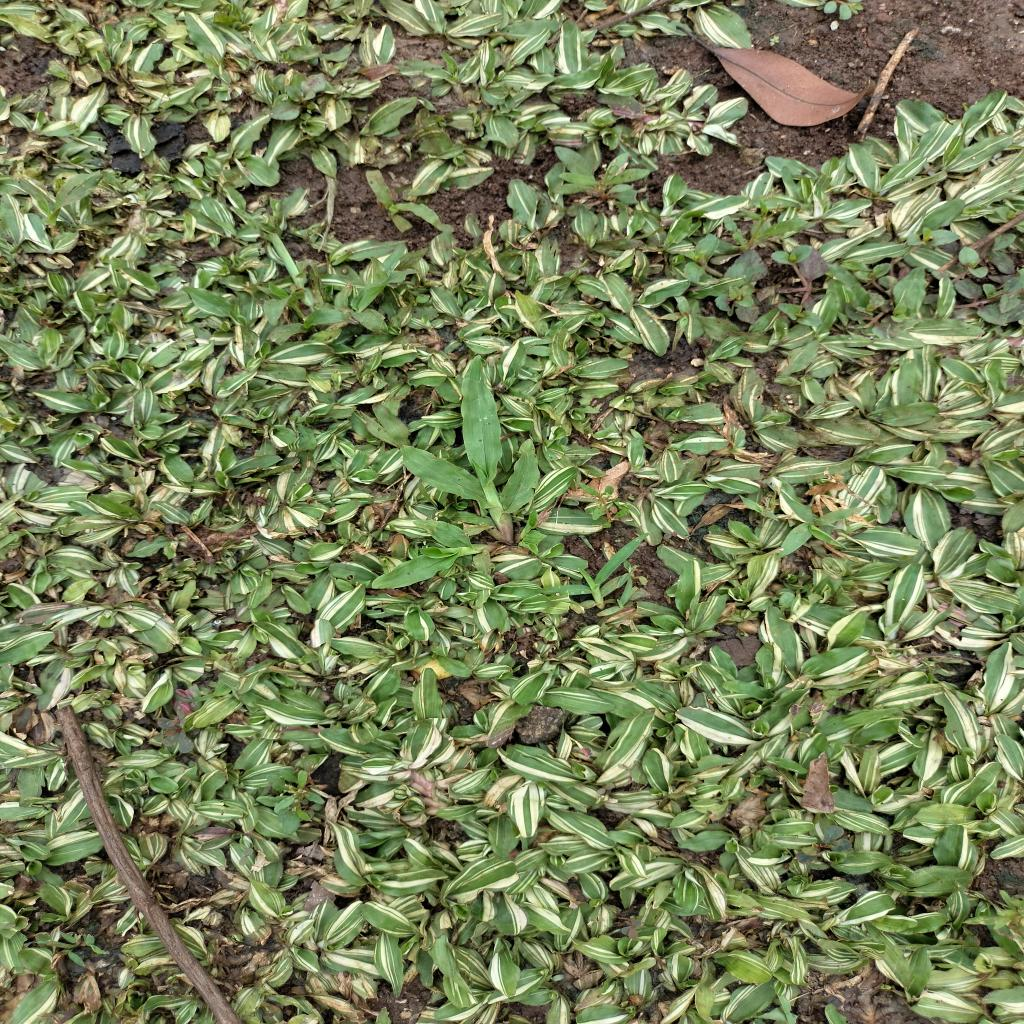bayi: (768, 33, 783, 46), (614, 538, 622, 544)
gingseng jawa: (553, 144, 650, 207), (722, 182, 809, 252), (254, 767, 325, 837), (575, 480, 635, 526)
rambat atas: (539, 532, 653, 610), (772, 504, 870, 562), (40, 929, 110, 968), (658, 295, 690, 354)
rambat bawah: (400, 352, 540, 545), (370, 518, 506, 590), (364, 167, 444, 233)
ungu tunggang: (845, 226, 1024, 340), (682, 231, 833, 327), (268, 71, 330, 123)
